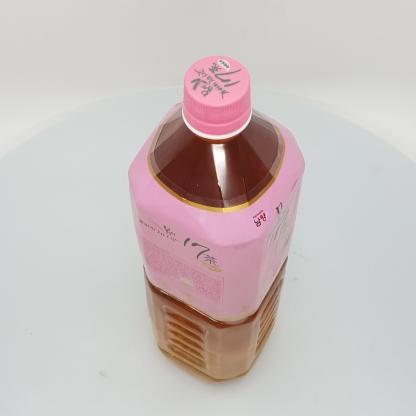--17-----1-5L: (128, 55, 305, 384)
